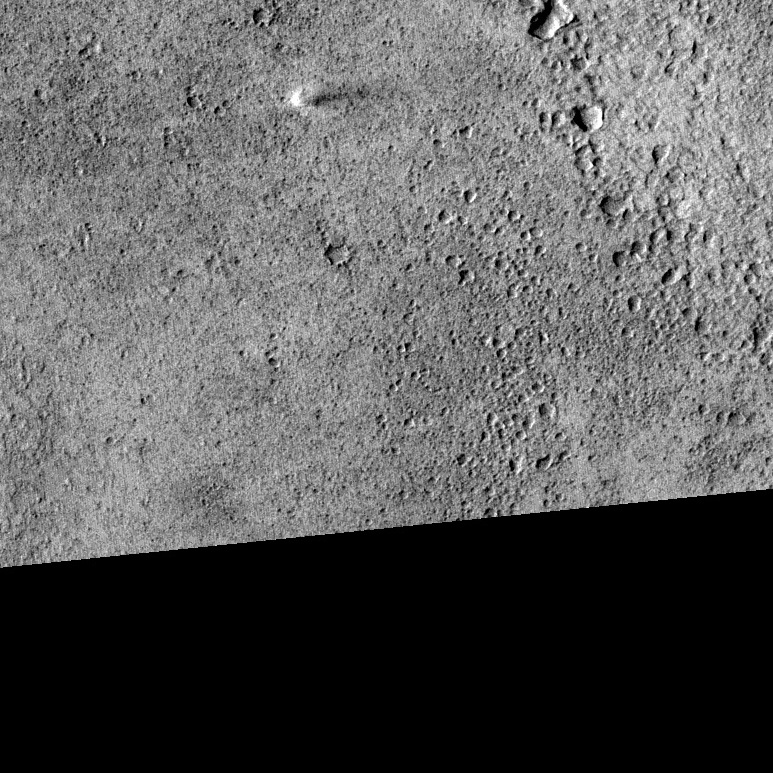dust_devil: (287, 83, 370, 108)
